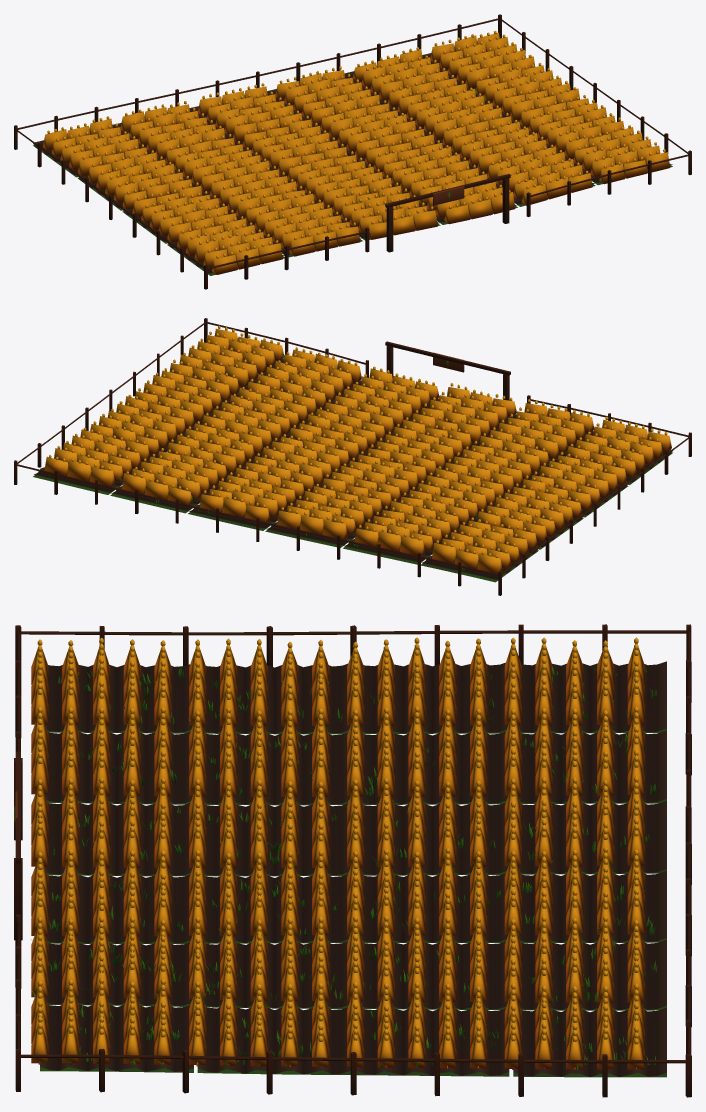
File: Bereket_Tarlasi.fbx
The picture shows the model from 3 angles, top to bottom: view 1: azimuth 30°, elevation 25°; view 2: azimuth 150°, elevation 25°; view 3: azimuth 270°, elevation 25°; orthographic projection. The views are drawn at different scales.
Visible parts, largest first — view 1: SM_Bereket_Cit, Tarla_P16_Olgun, Tarla_P11_Olgun, Tarla_P15_Olgun, Tarla_P12_Olgun, Tarla_P31_Olgun, Tarla_P46_Olgun, Tarla_P25_Olgun, Tarla_P43_Olgun, Tarla_P41_Olgun, Tarla_P13_Olgun, Tarla_P34_Olgun (+13 smaller); view 2: SM_Bereket_Cit, Tarla_P46_Olgun, Tarla_P41_Olgun, Tarla_P45_Olgun, Tarla_P42_Olgun, Tarla_P44_Olgun, Tarla_P43_Olgun, Tarla_P15_Olgun, Tarla_P35_Olgun, Tarla_P11_Olgun, Tarla_P26_Olgun, Tarla_P16_Olgun (+19 smaller); view 3: SM_Bereket_Cit, Tarla_P13_Olgun, Tarla_P23_Olgun, Tarla_P32_Olgun, Tarla_P22_Olgun, Tarla_P12_Olgun, Tarla_P43_Olgun, Tarla_P33_Olgun, Tarla_P42_Olgun, Tarla_P31_Olgun, Tarla_P41_Olgun, Tarla_P21_Olgun (+40 smaller).
Boxes of the visible parts, x1,y1,x2,y2 form: SM_Bereket_Cit: [14, 14, 691, 289]; Tarla_P16_Olgun: [564, 125, 670, 184]; Tarla_P11_Olgun: [177, 216, 282, 274]; Tarla_P15_Olgun: [487, 144, 592, 205]; Tarla_P12_Olgun: [254, 199, 360, 256]; Tarla_P31_Olgun: [88, 150, 192, 209]; Tarla_P46_Olgun: [430, 30, 535, 88]; Tarla_P25_Olgun: [442, 112, 546, 173]; Tarla_P43_Olgun: [198, 83, 302, 142]; Tarla_P41_Olgun: [43, 116, 147, 176]; Tarla_P13_Olgun: [332, 182, 437, 239]; Tarla_P34_Olgun: [320, 100, 424, 158]; SM_Bereket_Cit: [14, 318, 691, 595]; Tarla_P46_Olgun: [44, 428, 149, 486]; Tarla_P41_Olgun: [432, 517, 537, 573]; Tarla_P45_Olgun: [122, 448, 227, 504]; Tarla_P42_Olgun: [354, 499, 459, 556]; Tarla_P44_Olgun: [199, 465, 304, 522]; Tarla_P43_Olgun: [277, 483, 382, 539]; Tarla_P15_Olgun: [257, 347, 361, 408]; Tarla_P35_Olgun: [167, 412, 272, 473]; Tarla_P11_Olgun: [566, 416, 671, 477]; Tarla_P26_Olgun: [135, 359, 239, 421]; Tarla_P16_Olgun: [179, 325, 284, 386]; SM_Bereket_Cit: [14, 624, 691, 1097]; Tarla_P13_Olgun: [31, 777, 171, 868]; Tarla_P23_Olgun: [189, 779, 329, 868]; Tarla_P32_Olgun: [347, 706, 487, 796]; Tarla_P22_Olgun: [189, 707, 329, 796]; Tarla_P12_Olgun: [31, 707, 171, 796]; Tarla_P43_Olgun: [504, 776, 644, 866]; Tarla_P33_Olgun: [347, 778, 487, 867]; Tarla_P42_Olgun: [504, 706, 644, 795]; Tarla_P31_Olgun: [347, 637, 487, 725]; Tarla_P41_Olgun: [504, 637, 644, 725]; Tarla_P21_Olgun: [189, 638, 329, 725].
Size of the model in its own units: 25.16 by 2.35 by 17.19.
